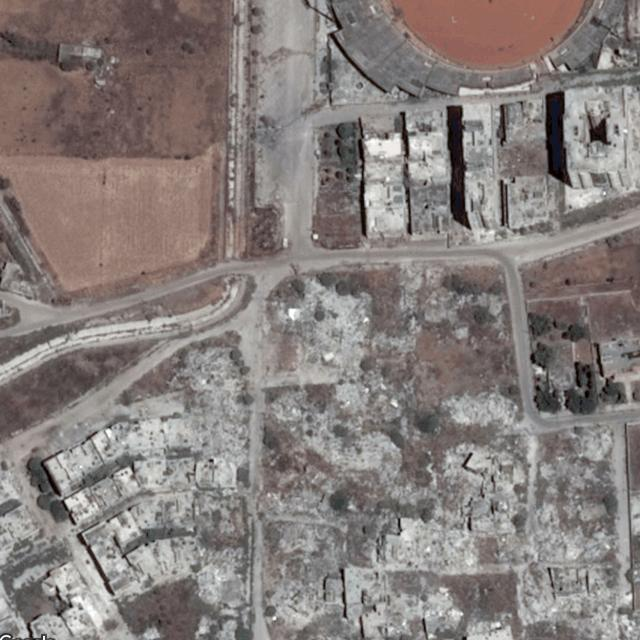damaged_building: (260, 266, 474, 627), (493, 424, 640, 640), (165, 345, 248, 467), (441, 387, 528, 462), (386, 584, 462, 634), (197, 545, 244, 607)
